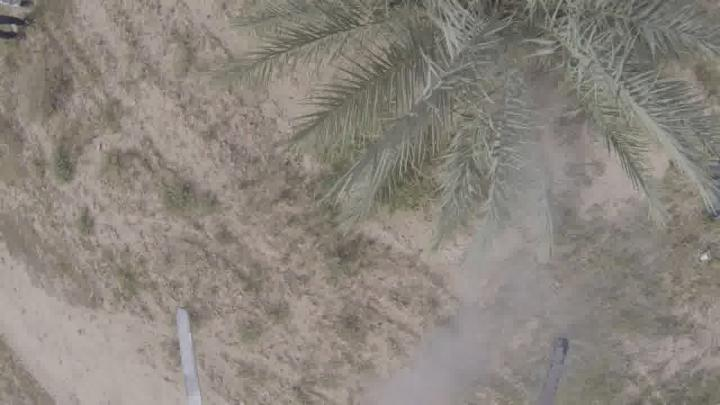Date-Palm-Crown: (344, 1, 720, 164)
